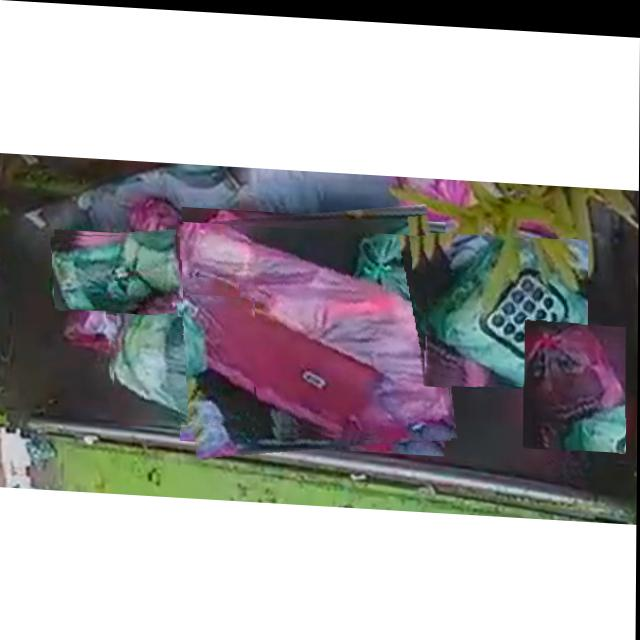general_trashbag: (425, 232, 588, 379), (114, 290, 254, 418), (52, 233, 181, 309)
other_trashbag: (178, 221, 451, 436), (525, 318, 626, 437)
